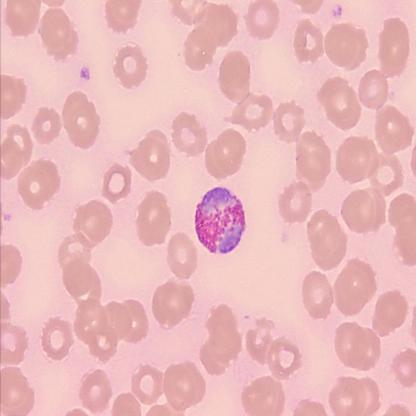Eosinophil: (194, 185, 246, 255)
